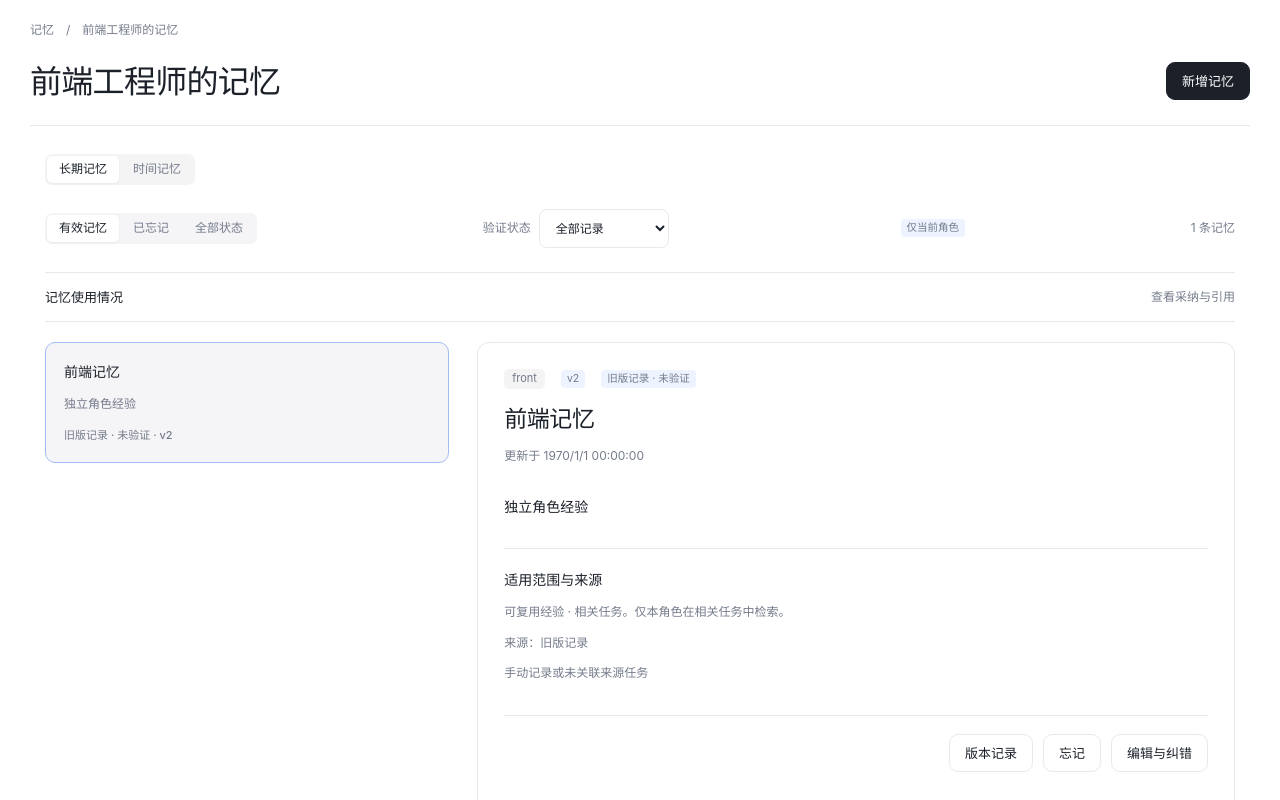
新增记忆不提供用户或项目范围
Click the button "新增记忆" at (1208, 81), box [1166, 62, 1250, 100]
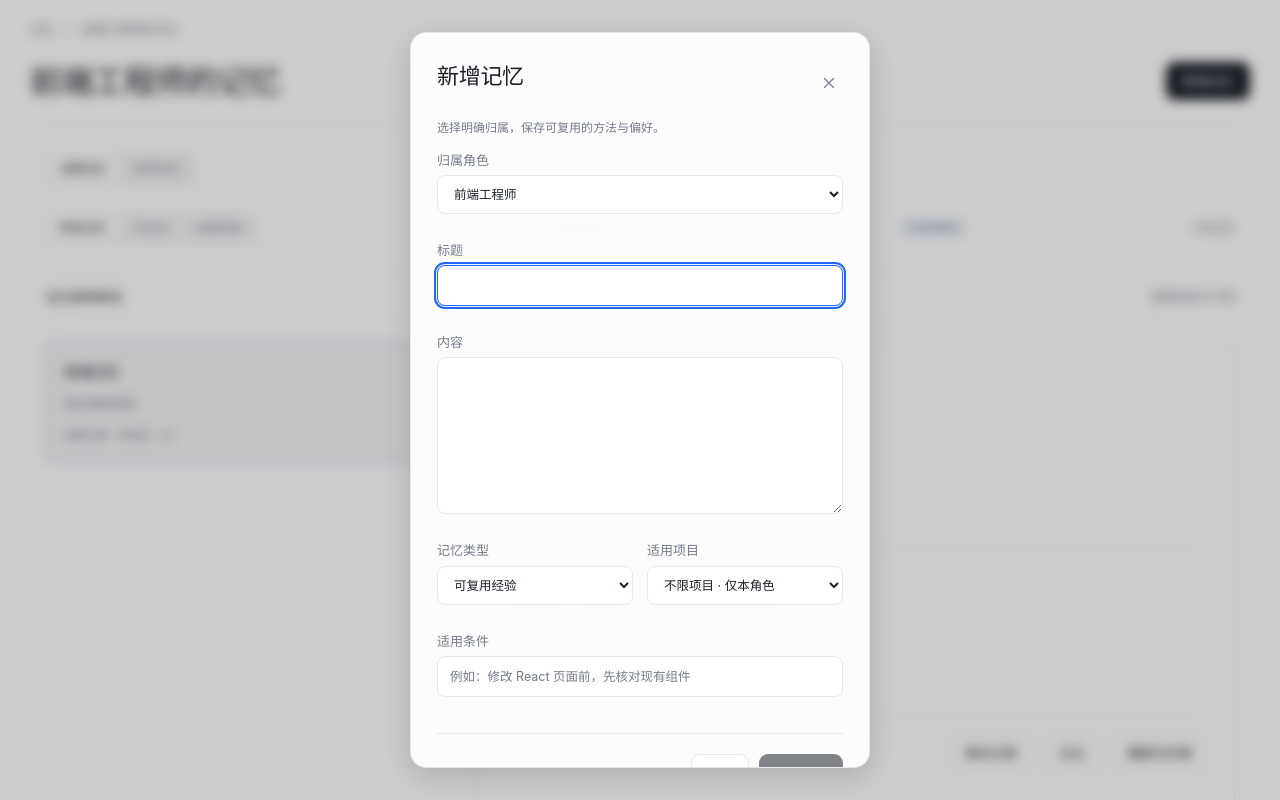
Expected: the dropdown labelled "归属角色" is shown, [437, 175, 843, 214]
